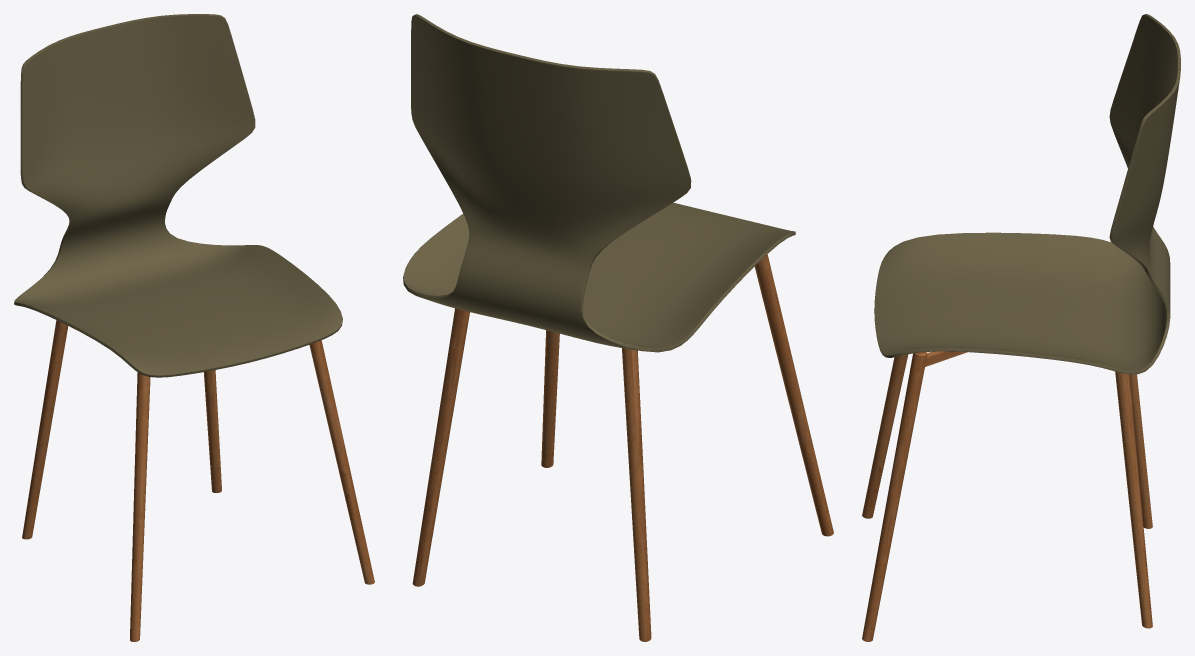
File: chair_63_02.001.fbx
3 views of the same model, side by side, from view 1: azimuth 30°, elevation 25°; view 2: azimuth 150°, elevation 25°; view 3: azimuth 270°, elevation 25° (orthographic). The views are drawn at different scales.
Visible parts, largest first — view 1: chair_63_02.001; view 2: chair_63_02.001; view 3: chair_63_02.001.
Boxes of the visible parts, <box> form: chair_63_02.001: <box>14,14,374,641</box>; chair_63_02.001: <box>403,14,833,641</box>; chair_63_02.001: <box>862,14,1180,641</box>.
Size of the model in its own units: 45.27 by 85.1 by 47.74.
Materials: 1 (1 with a texture image).
